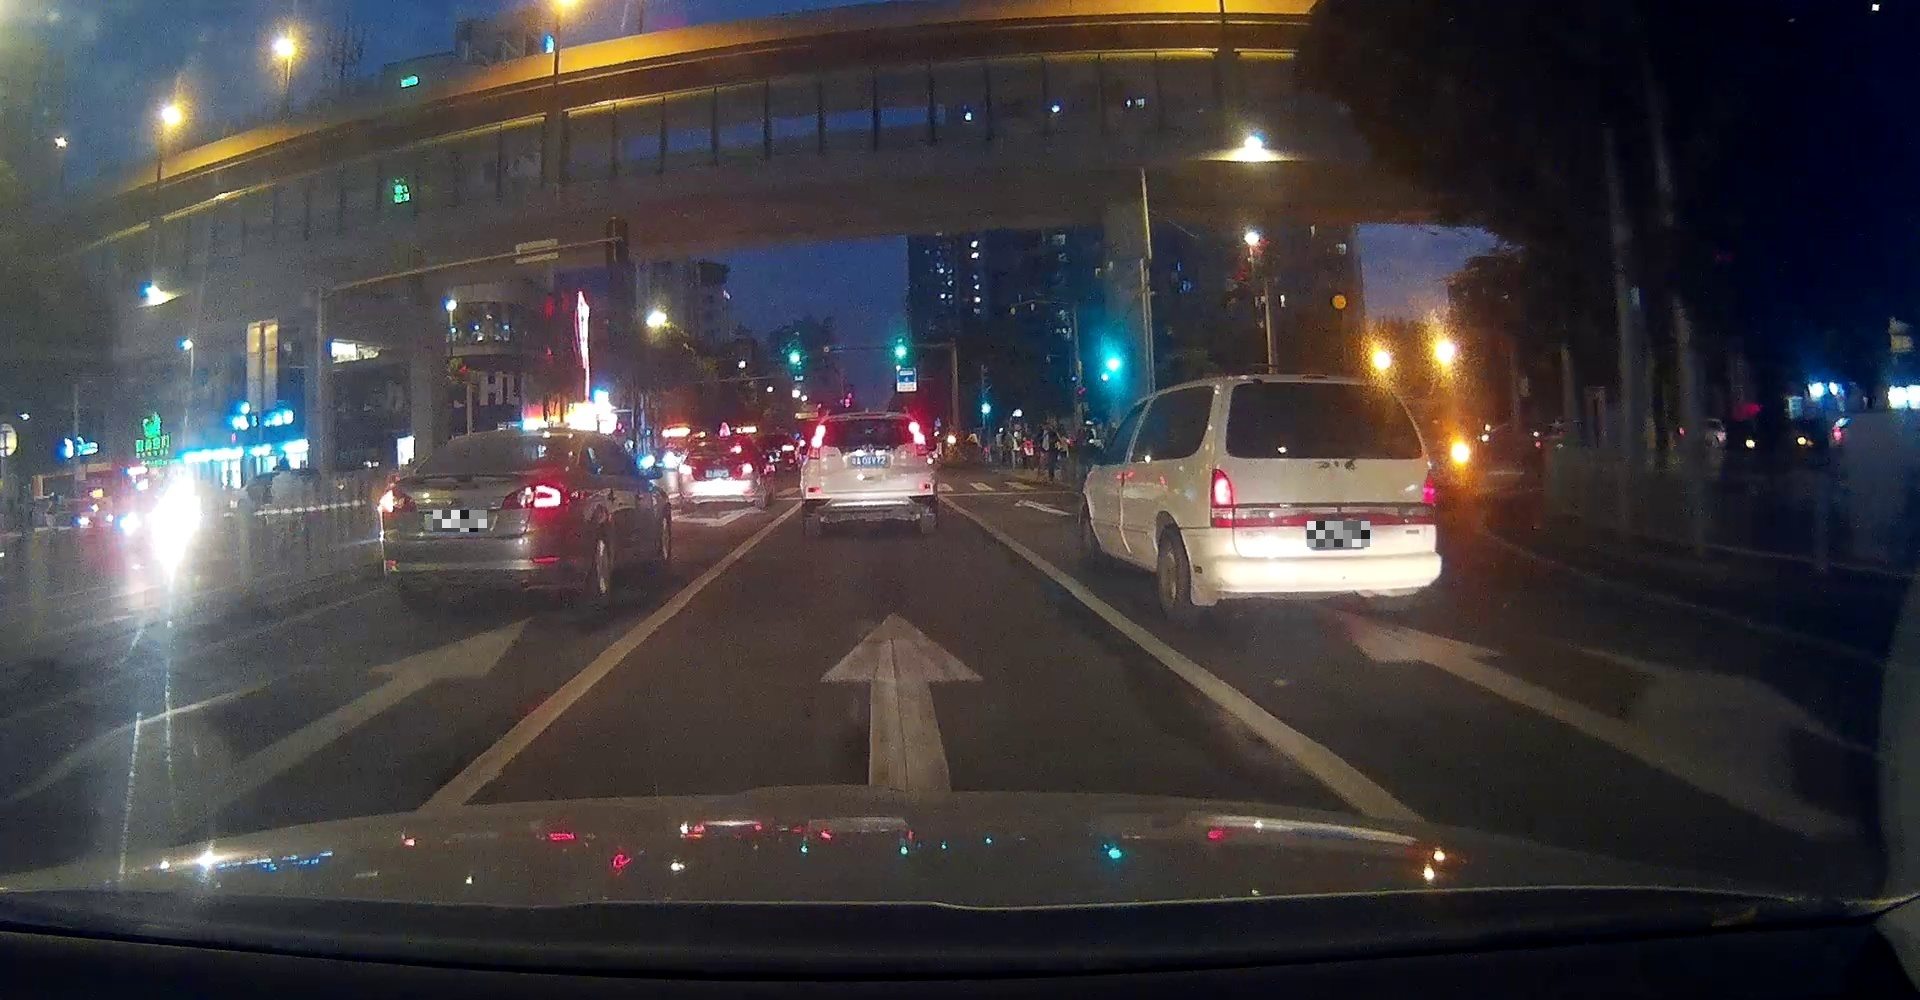L_light: (378, 489, 417, 513), (1211, 468, 1233, 508), (803, 448, 820, 459), (679, 464, 695, 475)
R_light: (502, 484, 570, 510), (1421, 470, 1437, 505), (737, 463, 754, 475), (914, 444, 930, 456)
T_light: (1313, 383, 1336, 391), (500, 437, 519, 442), (867, 419, 880, 424), (719, 440, 730, 445)
night-no: (1209, 374, 1443, 628), (378, 428, 582, 615), (799, 411, 937, 537), (678, 437, 759, 513)
plate_1: (433, 510, 488, 532)
plate_2: (1307, 522, 1370, 547)
